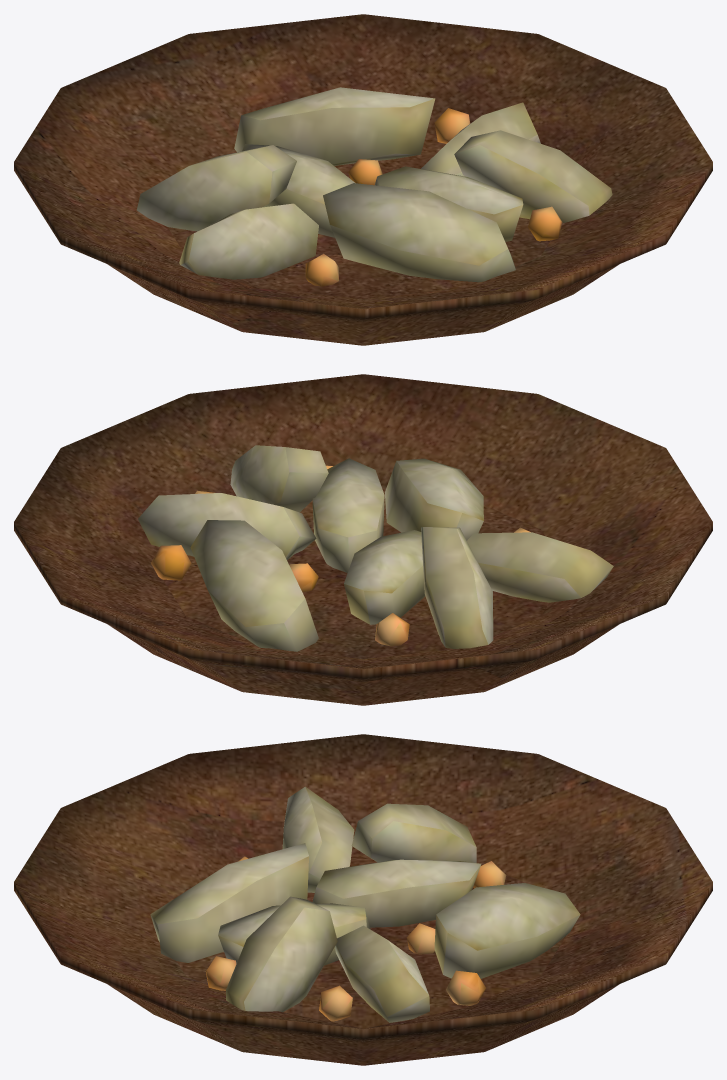
File: KM_ITFO_NOODLES.glb
3 renders of one model, top to bottom at view 1: azimuth 30°, elevation 25°; view 2: azimuth 150°, elevation 25°; view 3: azimuth 270°, elevation 25°, orthographic.
Parts seen in each view (by area): view 1: Mesh; view 2: Mesh; view 3: Mesh.
Part boxes in pixels (<box>): Mesh: <box>14,14,712,345</box>; Mesh: <box>14,374,712,705</box>; Mesh: <box>14,734,712,1065</box>.
Bounding box in the file's own units: 0.3559 × 0.061 × 0.3559.
3 materials, 3 textured.
